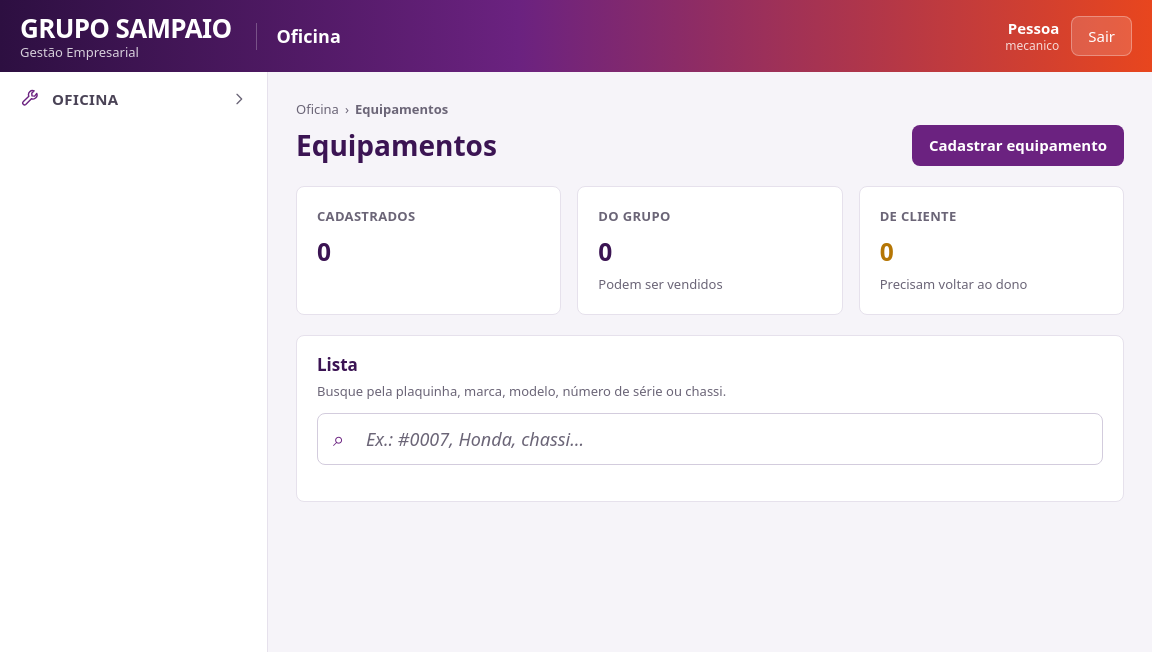
it: GAP-PRD-106 — o cadastro pergunta o tipo, a placa e o km › celular não pergunta placa nem km; "Outro" sem marca nem modelo é barrado antes do servidor
The width and height of the screenshot is (1152, 652).
Click the button "Cadastrar equipamento".
click(1018, 145)  # box x1=912 y1=125 x2=1124 y2=166
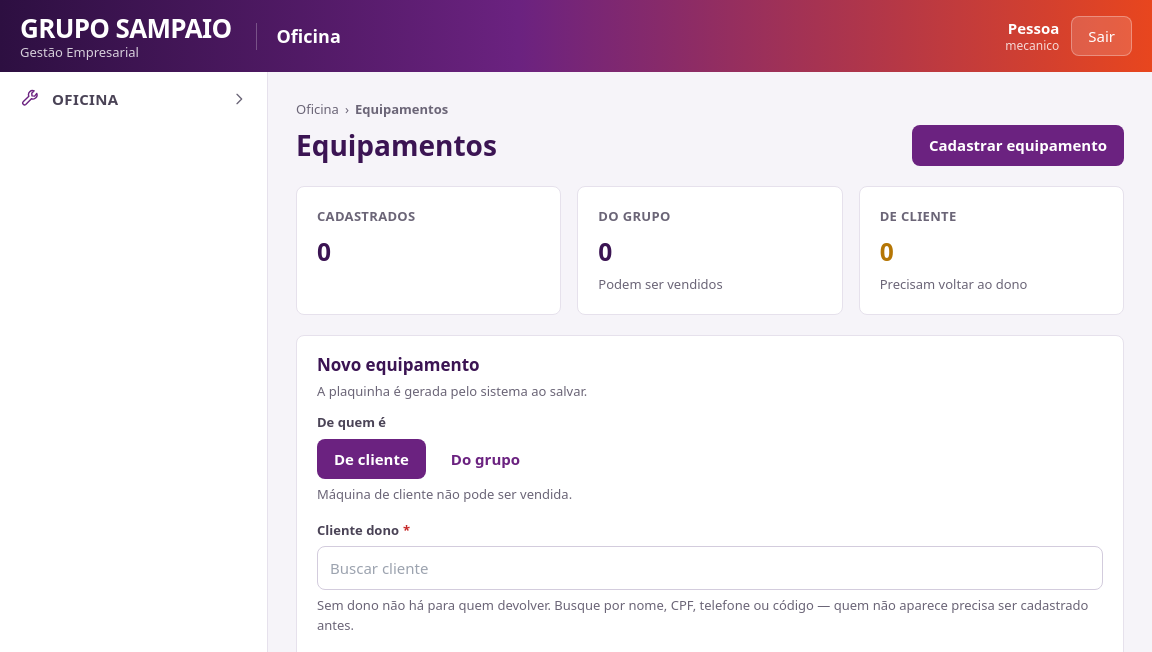
Click the radio button labelled "Do grupo".
click(485, 459)  # box x1=434 y1=439 x2=537 y2=479
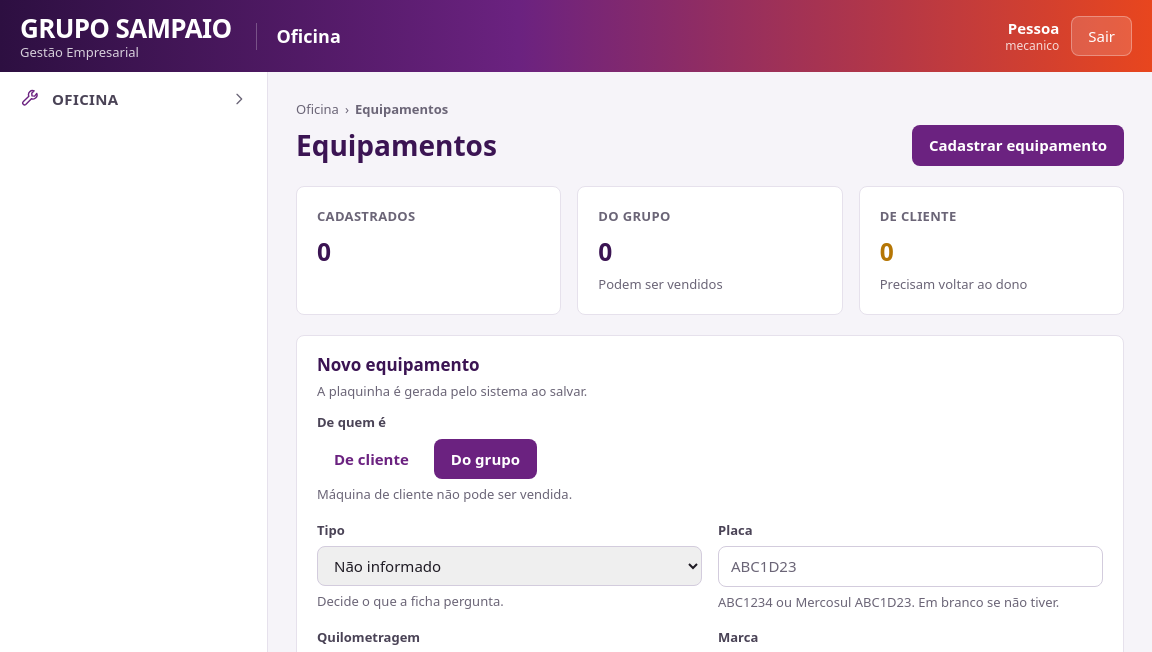
Select "Celular" in the dropdown labelled "Tipo" at (510, 566), box x1=317 y1=546 x2=702 y2=586
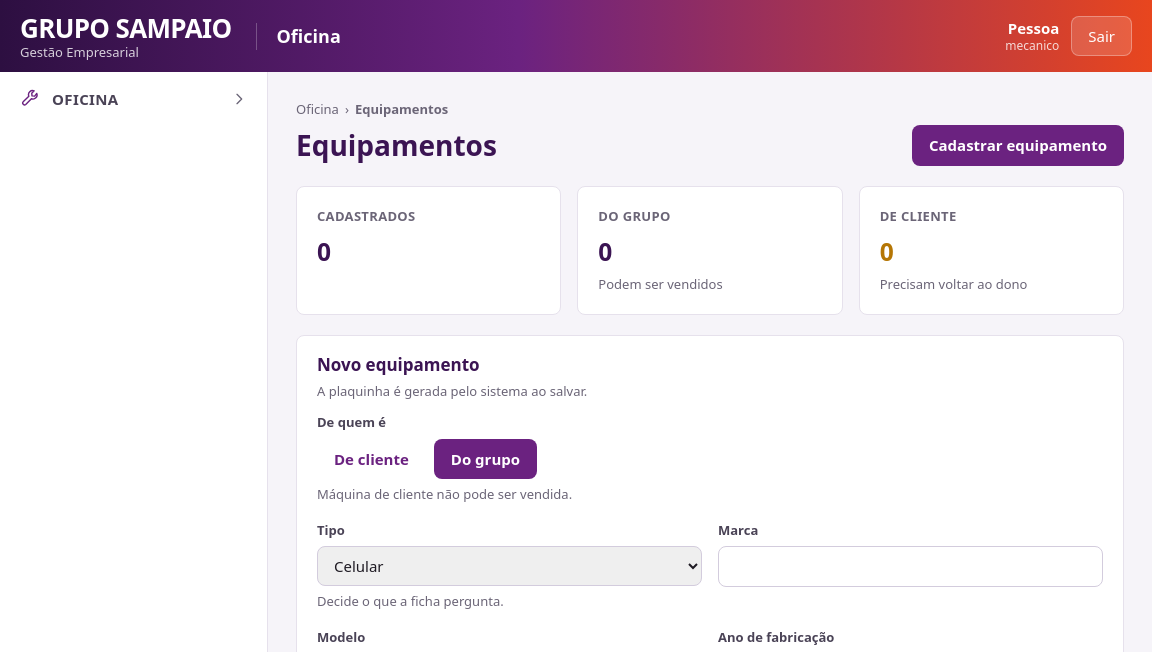
Now the label labelled "Placa" is gone
Now the label labelled "Quilometragem" is gone
Select "Outro" in the dropdown labelled "Tipo" at (510, 566), box x1=317 y1=546 x2=702 y2=586
(page scrolled)
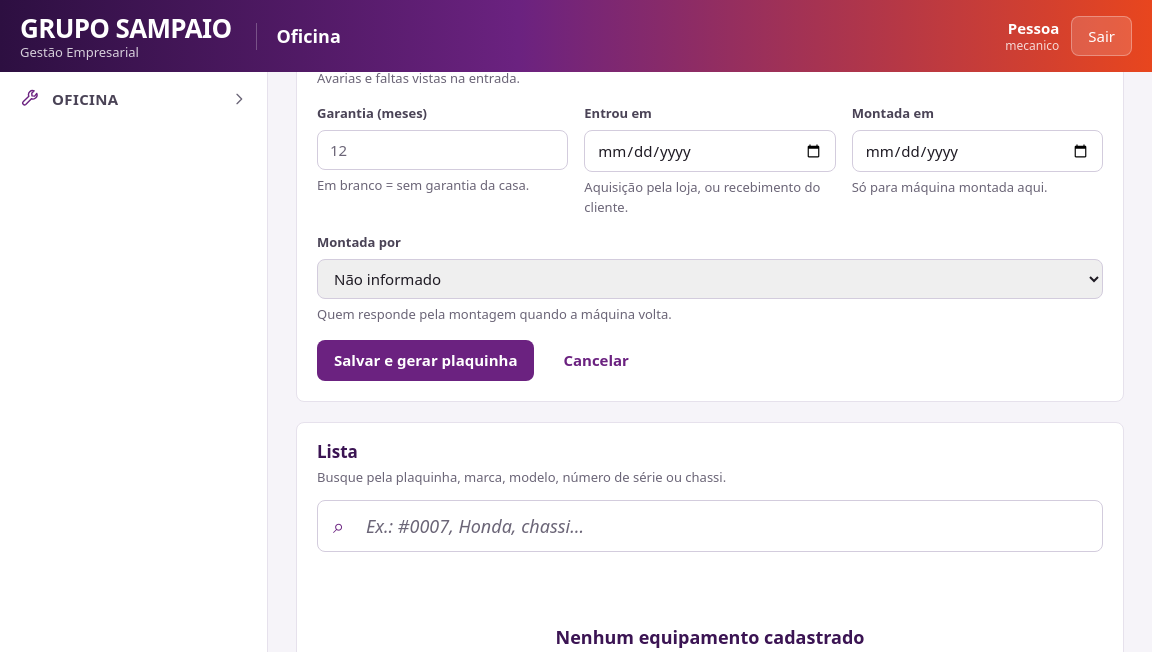
Click the button "Salvar e gerar plaquinha".
click(426, 361)  # box x1=317 y1=340 x2=534 y2=381
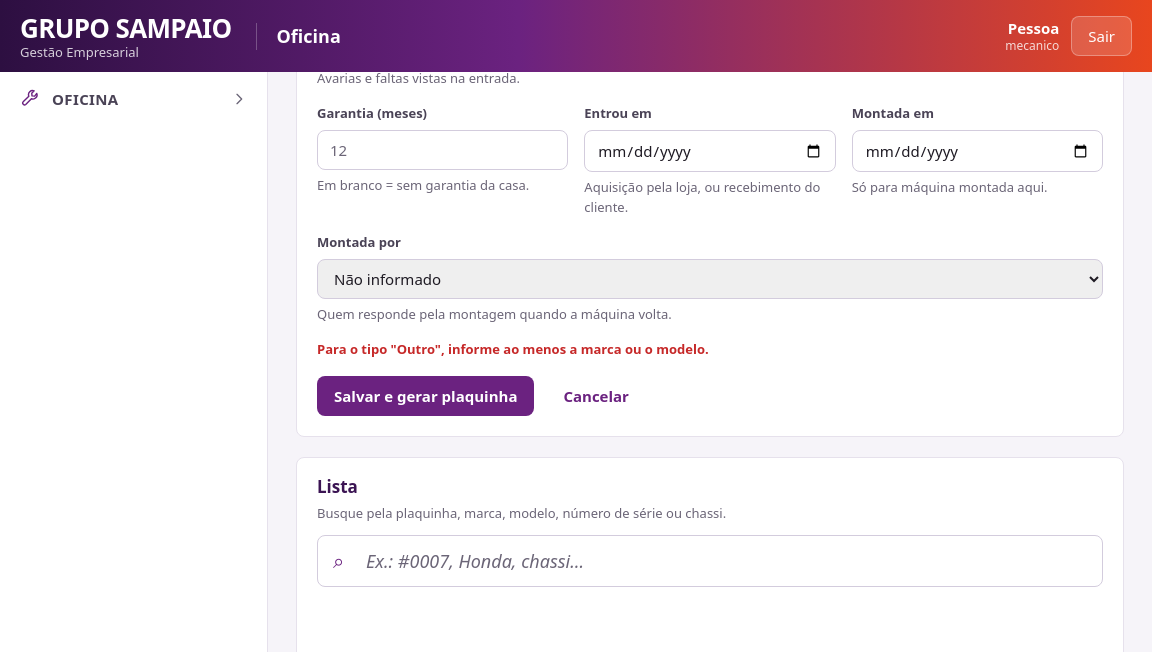
Now the text "Para o tipo \"Outro\", informe ao menos a marca ou o modelo." is shown, box x1=317 y1=340 x2=709 y2=358
